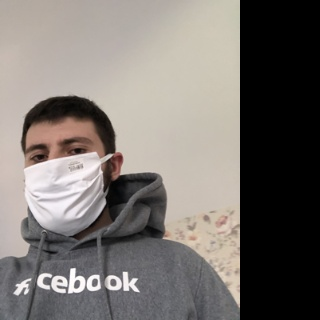with_mask: (24, 136, 108, 236)
